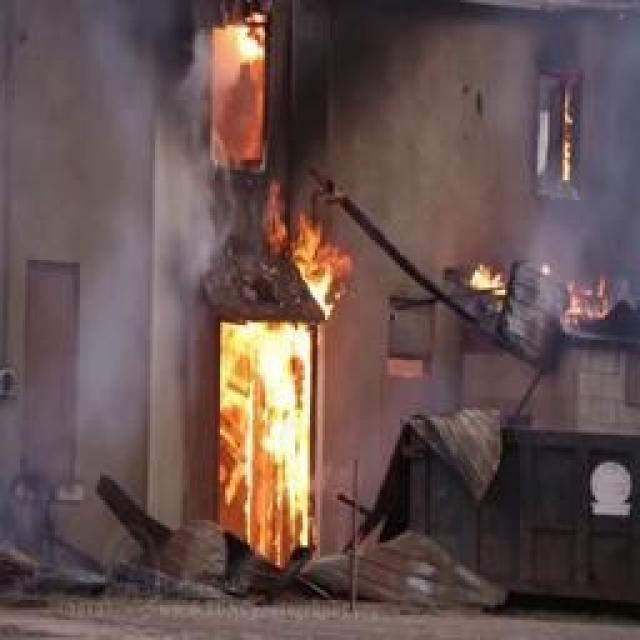fire: (218, 320, 320, 542), (226, 165, 344, 303), (202, 23, 270, 158)
